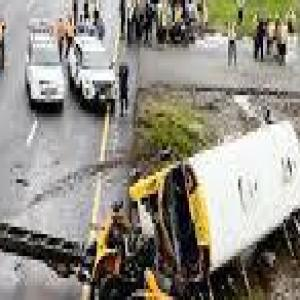severe: (80, 110, 300, 300)
